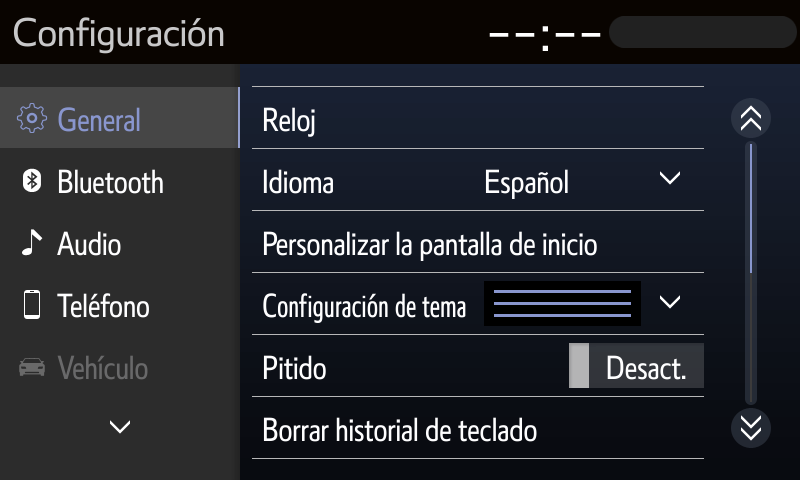touchPart: (249, 205, 706, 281), (248, 391, 709, 464), (250, 330, 707, 403), (249, 143, 703, 216), (250, 83, 709, 155), (249, 267, 707, 338), (13, 281, 172, 325), (19, 163, 168, 201), (16, 217, 126, 263), (722, 98, 774, 142), (727, 406, 778, 447), (104, 411, 142, 442)
untouchPart: (1, 83, 240, 151), (482, 12, 796, 54), (9, 9, 232, 54), (16, 346, 154, 389)
